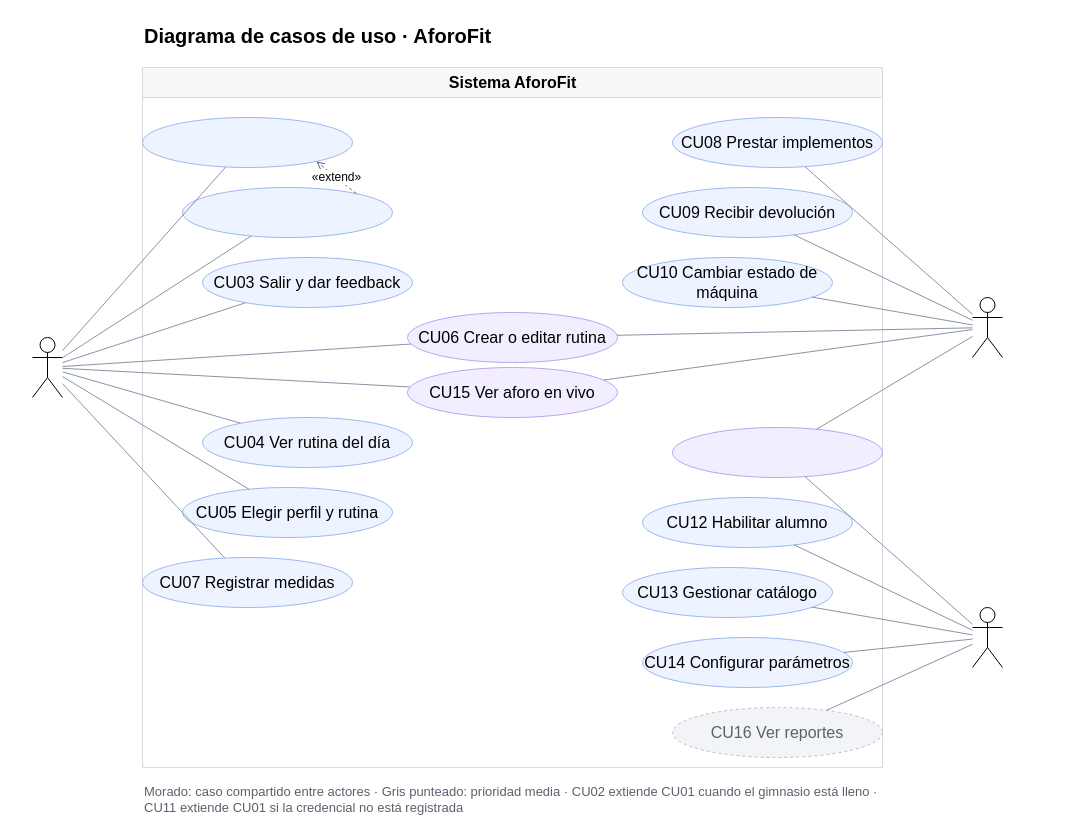
Some shapes in this 1080 by 834 pixel diagram are drawn without their labels. The centre of each missing label's shape, as x and y in pixels:
Administrador: (x=987, y=637)
Alumno: (x=47, y=367)
CU01 Ingresar al gimnasio: (x=247, y=142)
CU02 Esperar turno: (x=287, y=212)
CU11 Vincular credencial: (x=777, y=452)
Profesor encargado: (x=987, y=327)
